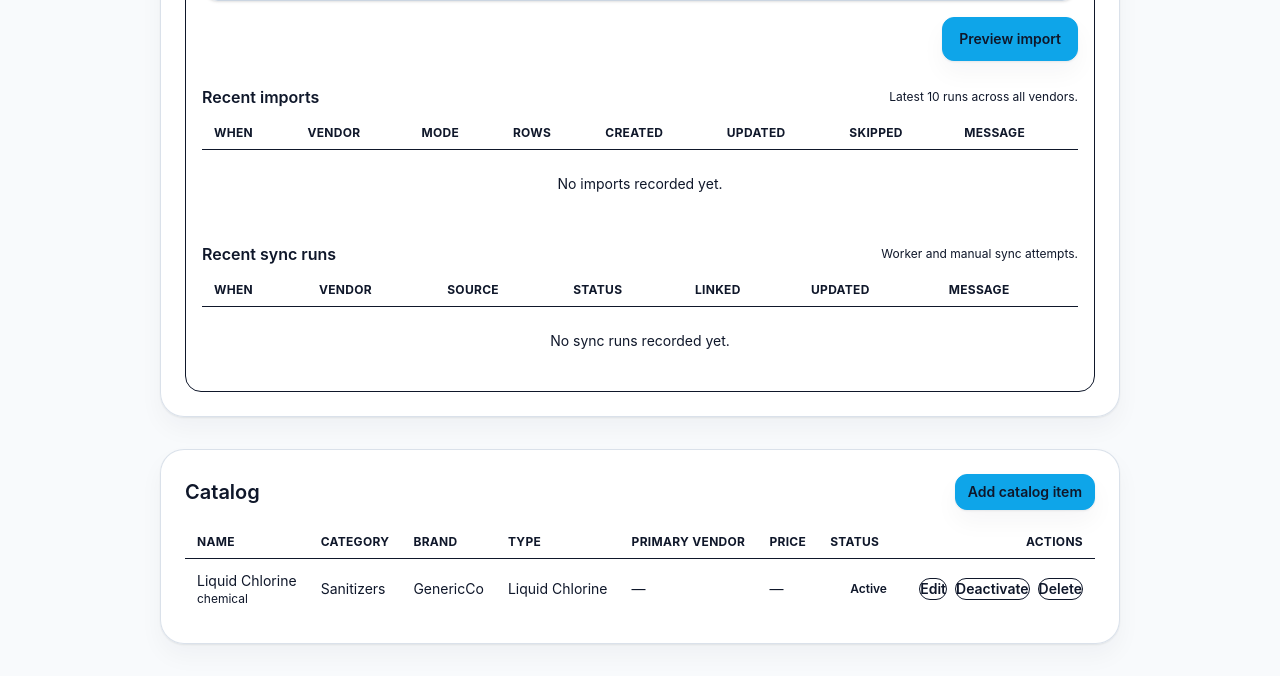
Test case: admin chemicals page › toggles the active state of a chemical
The width and height of the screenshot is (1280, 676).
(page scrolled)
Click the button "Deactivate" at (992, 589), box [955,578,1030,600]
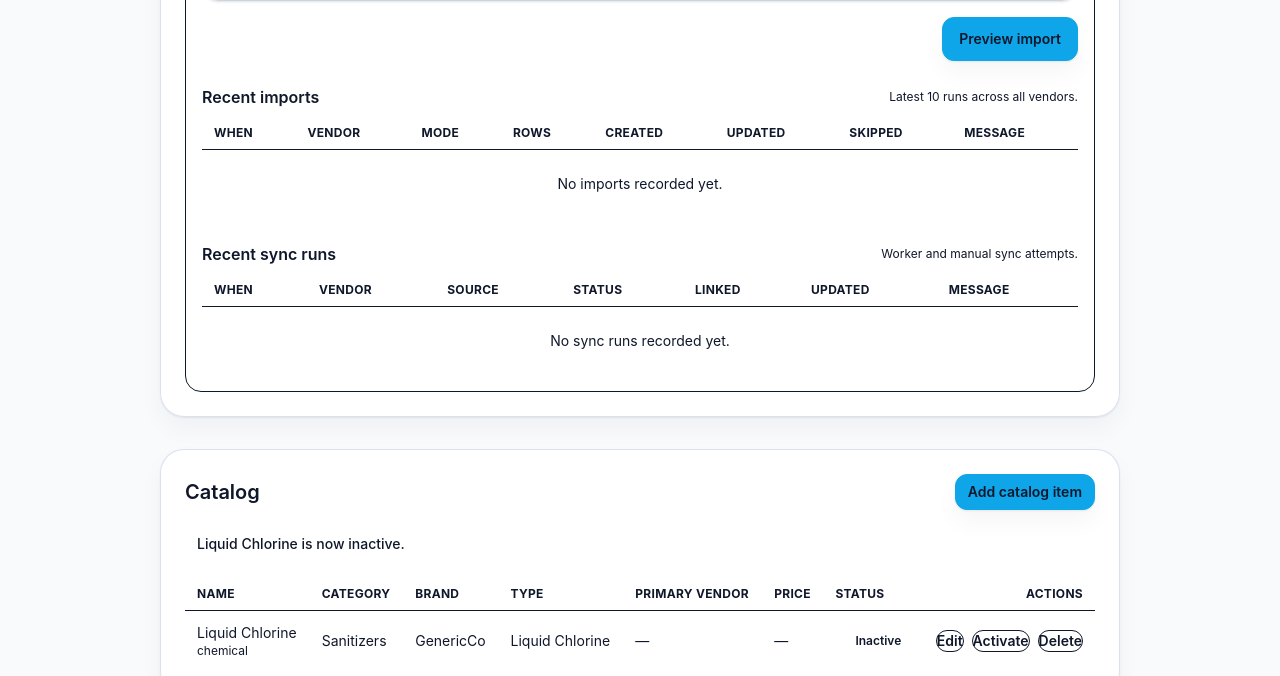
Expected: the text "Liquid Chlorine is now inactive." is shown, [197,535,405,552]
